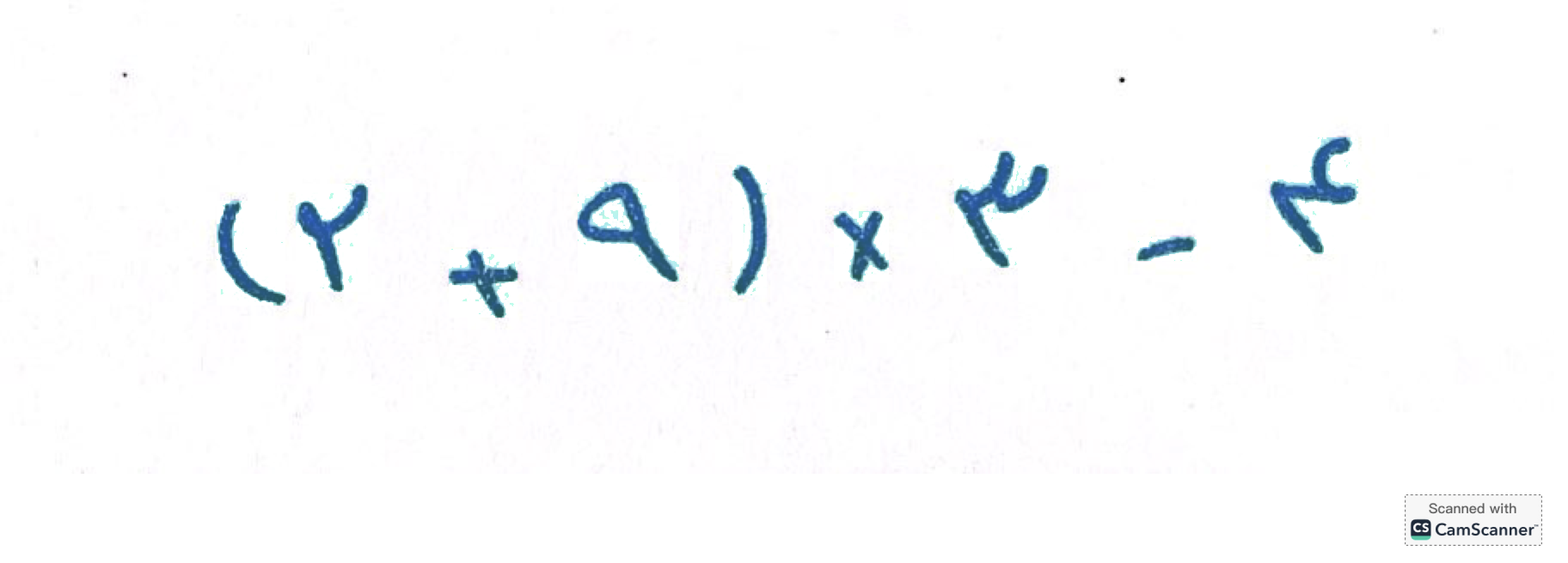character: (100, 72, 186, 232), (622, 81, 715, 211), (1166, 116, 1261, 225), (1387, 67, 1473, 181), (964, 74, 1041, 197), (462, 86, 548, 192), (1514, 72, 1568, 192), (813, 128, 873, 209), (297, 153, 367, 211)
